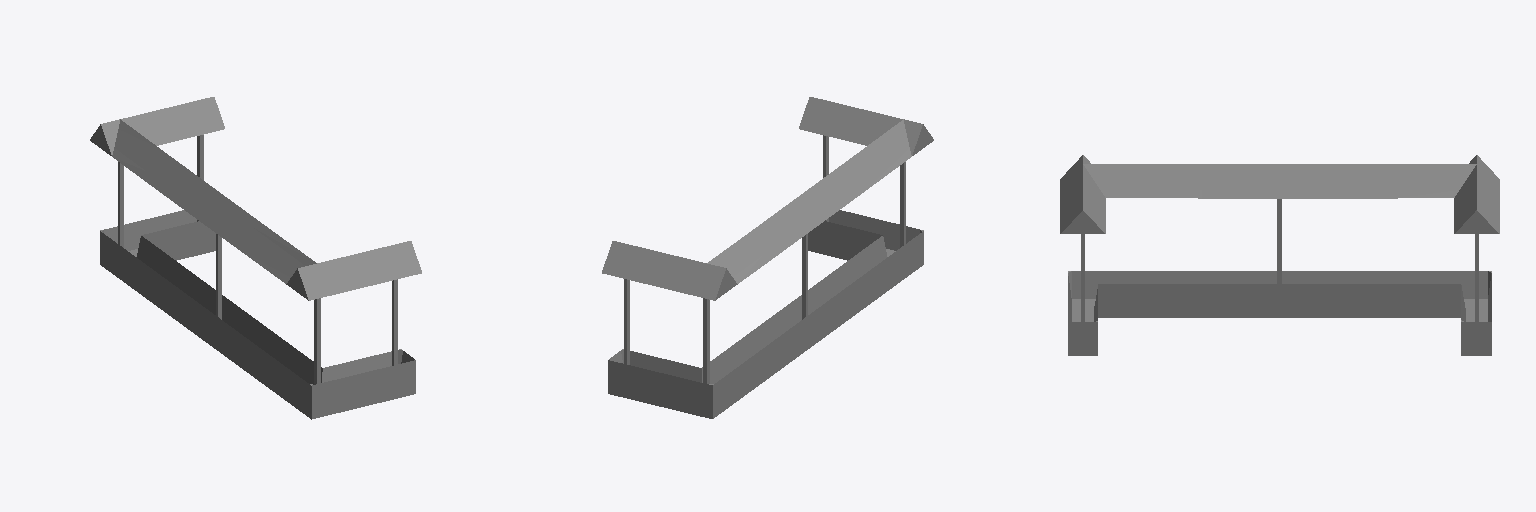
Rendered from Mercado.obj.
3 views of the same model, side by side, from view 1: azimuth 30°, elevation 25°; view 2: azimuth 150°, elevation 25°; view 3: azimuth 270°, elevation 25° (orthographic).
Visible parts, largest first — view 1: Box006, Plane004, Plane002, Plane006, Box010; view 2: Box006, Plane004, Plane005, Plane001, Box008; view 3: Box006, Plane003, Plane005, Plane001, Plane002, Plane006.
Boxes of the visible parts, <box> form: Box006: <box>100,210,415,419</box>; Plane004: <box>112,119,316,283</box>; Plane002: <box>298,241,421,300</box>; Plane006: <box>101,97,224,155</box>; Box010: <box>314,298,320,384</box>; Box006: <box>608,210,923,418</box>; Plane004: <box>707,119,911,283</box>; Plane005: <box>602,241,725,300</box>; Plane001: <box>799,97,933,155</box>; Box008: <box>703,298,709,383</box>; Box006: <box>1068,271,1491,355</box>; Plane003: <box>1083,164,1476,198</box>; Plane005: <box>1477,155,1499,233</box>; Plane001: <box>1061,155,1105,233</box>; Plane002: <box>1060,155,1082,233</box>; Plane006: <box>1454,155,1476,233</box>.
Size of the model in its own units: 43.4 by 53.85 by 145.